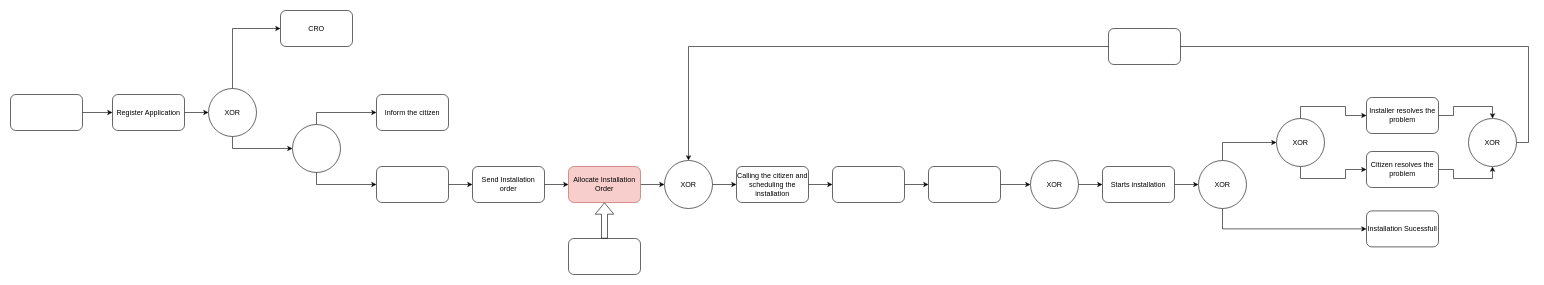
Some shapes in this 1544 by 285 pixel diagram are drawn without their labels. Each missing label, with the centre of its shape:
"AND" goes at point (316, 148).
"Make a log entry" goes at point (1144, 46).
"Obtain the alarm number" goes at point (412, 184).
"Receive the application" goes at point (46, 112).
"Send 24 hour reminder to the citizen" goes at point (964, 184).
"Send time confirmation to the citizen" goes at point (868, 184).
"Trigger" goes at point (604, 256).
